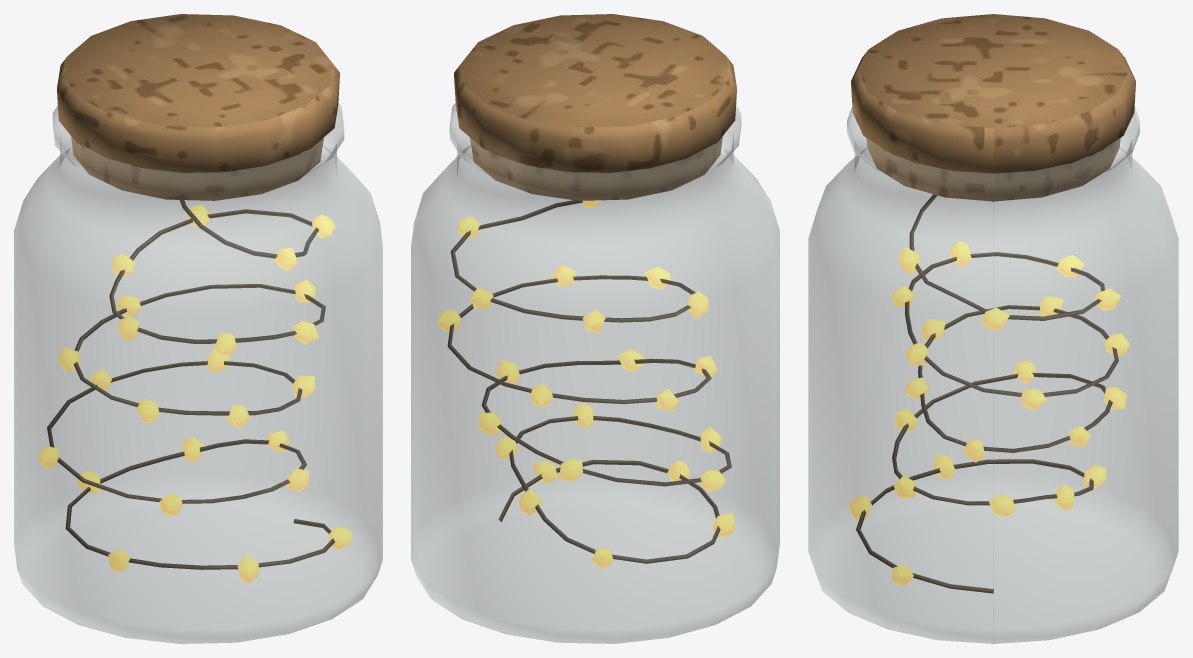
File: fairy_jar.glb
The picture shows the model from 3 angles, left to right: view 1: azimuth 30°, elevation 25°; view 2: azimuth 150°, elevation 25°; view 3: azimuth 270°, elevation 25°; orthographic projection.
Visible parts, largest first — view 1: jar_glass, jar_cork; view 2: jar_glass, jar_cork; view 3: jar_glass, jar_cork.
Part boxes in pixels (x1,y1,x2,y2): jar_glass: [14, 103, 382, 643]; jar_cork: [47, 14, 339, 569]; jar_glass: [411, 103, 779, 643]; jar_cork: [447, 14, 736, 563]; jar_glass: [808, 107, 1178, 643]; jar_cork: [851, 14, 1135, 593].
Bounding box in the file's own units: 1 × 1.5 × 1.
Materials: 3 (1 with a texture image).
